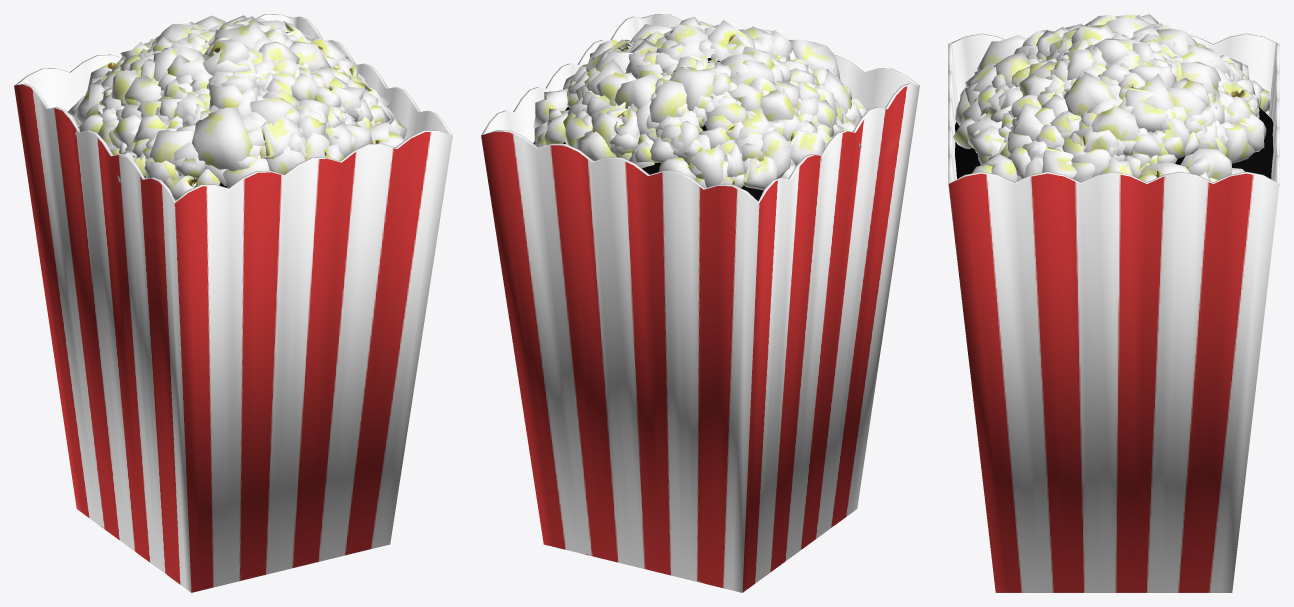
The model's file is PopCorn.fbx.
3 views of the same model, side by side, from view 1: azimuth 30°, elevation 25°; view 2: azimuth 150°, elevation 25°; view 3: azimuth 270°, elevation 25° (orthographic). The views are drawn at different scales.
Parts seen in each view (by area): view 1: popcorn-box.000, popcorn1-lp.001; view 2: popcorn-box.000, popcorn1-lp.001; view 3: popcorn-box.000, popcorn1-lp.001, Plane.001.
Part boxes in pixels (x1,y1,x2,y2): popcorn-box.000: [14, 14, 452, 592]; popcorn1-lp.001: [67, 15, 407, 201]; popcorn-box.000: [481, 14, 919, 592]; popcorn1-lp.001: [533, 16, 869, 190]; popcorn-box.000: [948, 33, 1279, 592]; popcorn1-lp.001: [953, 14, 1269, 182]; Plane.001: [955, 107, 1273, 178].
Bounding box in the file's own units: 281 × 479 × 280.
5 materials, 5 textured.
